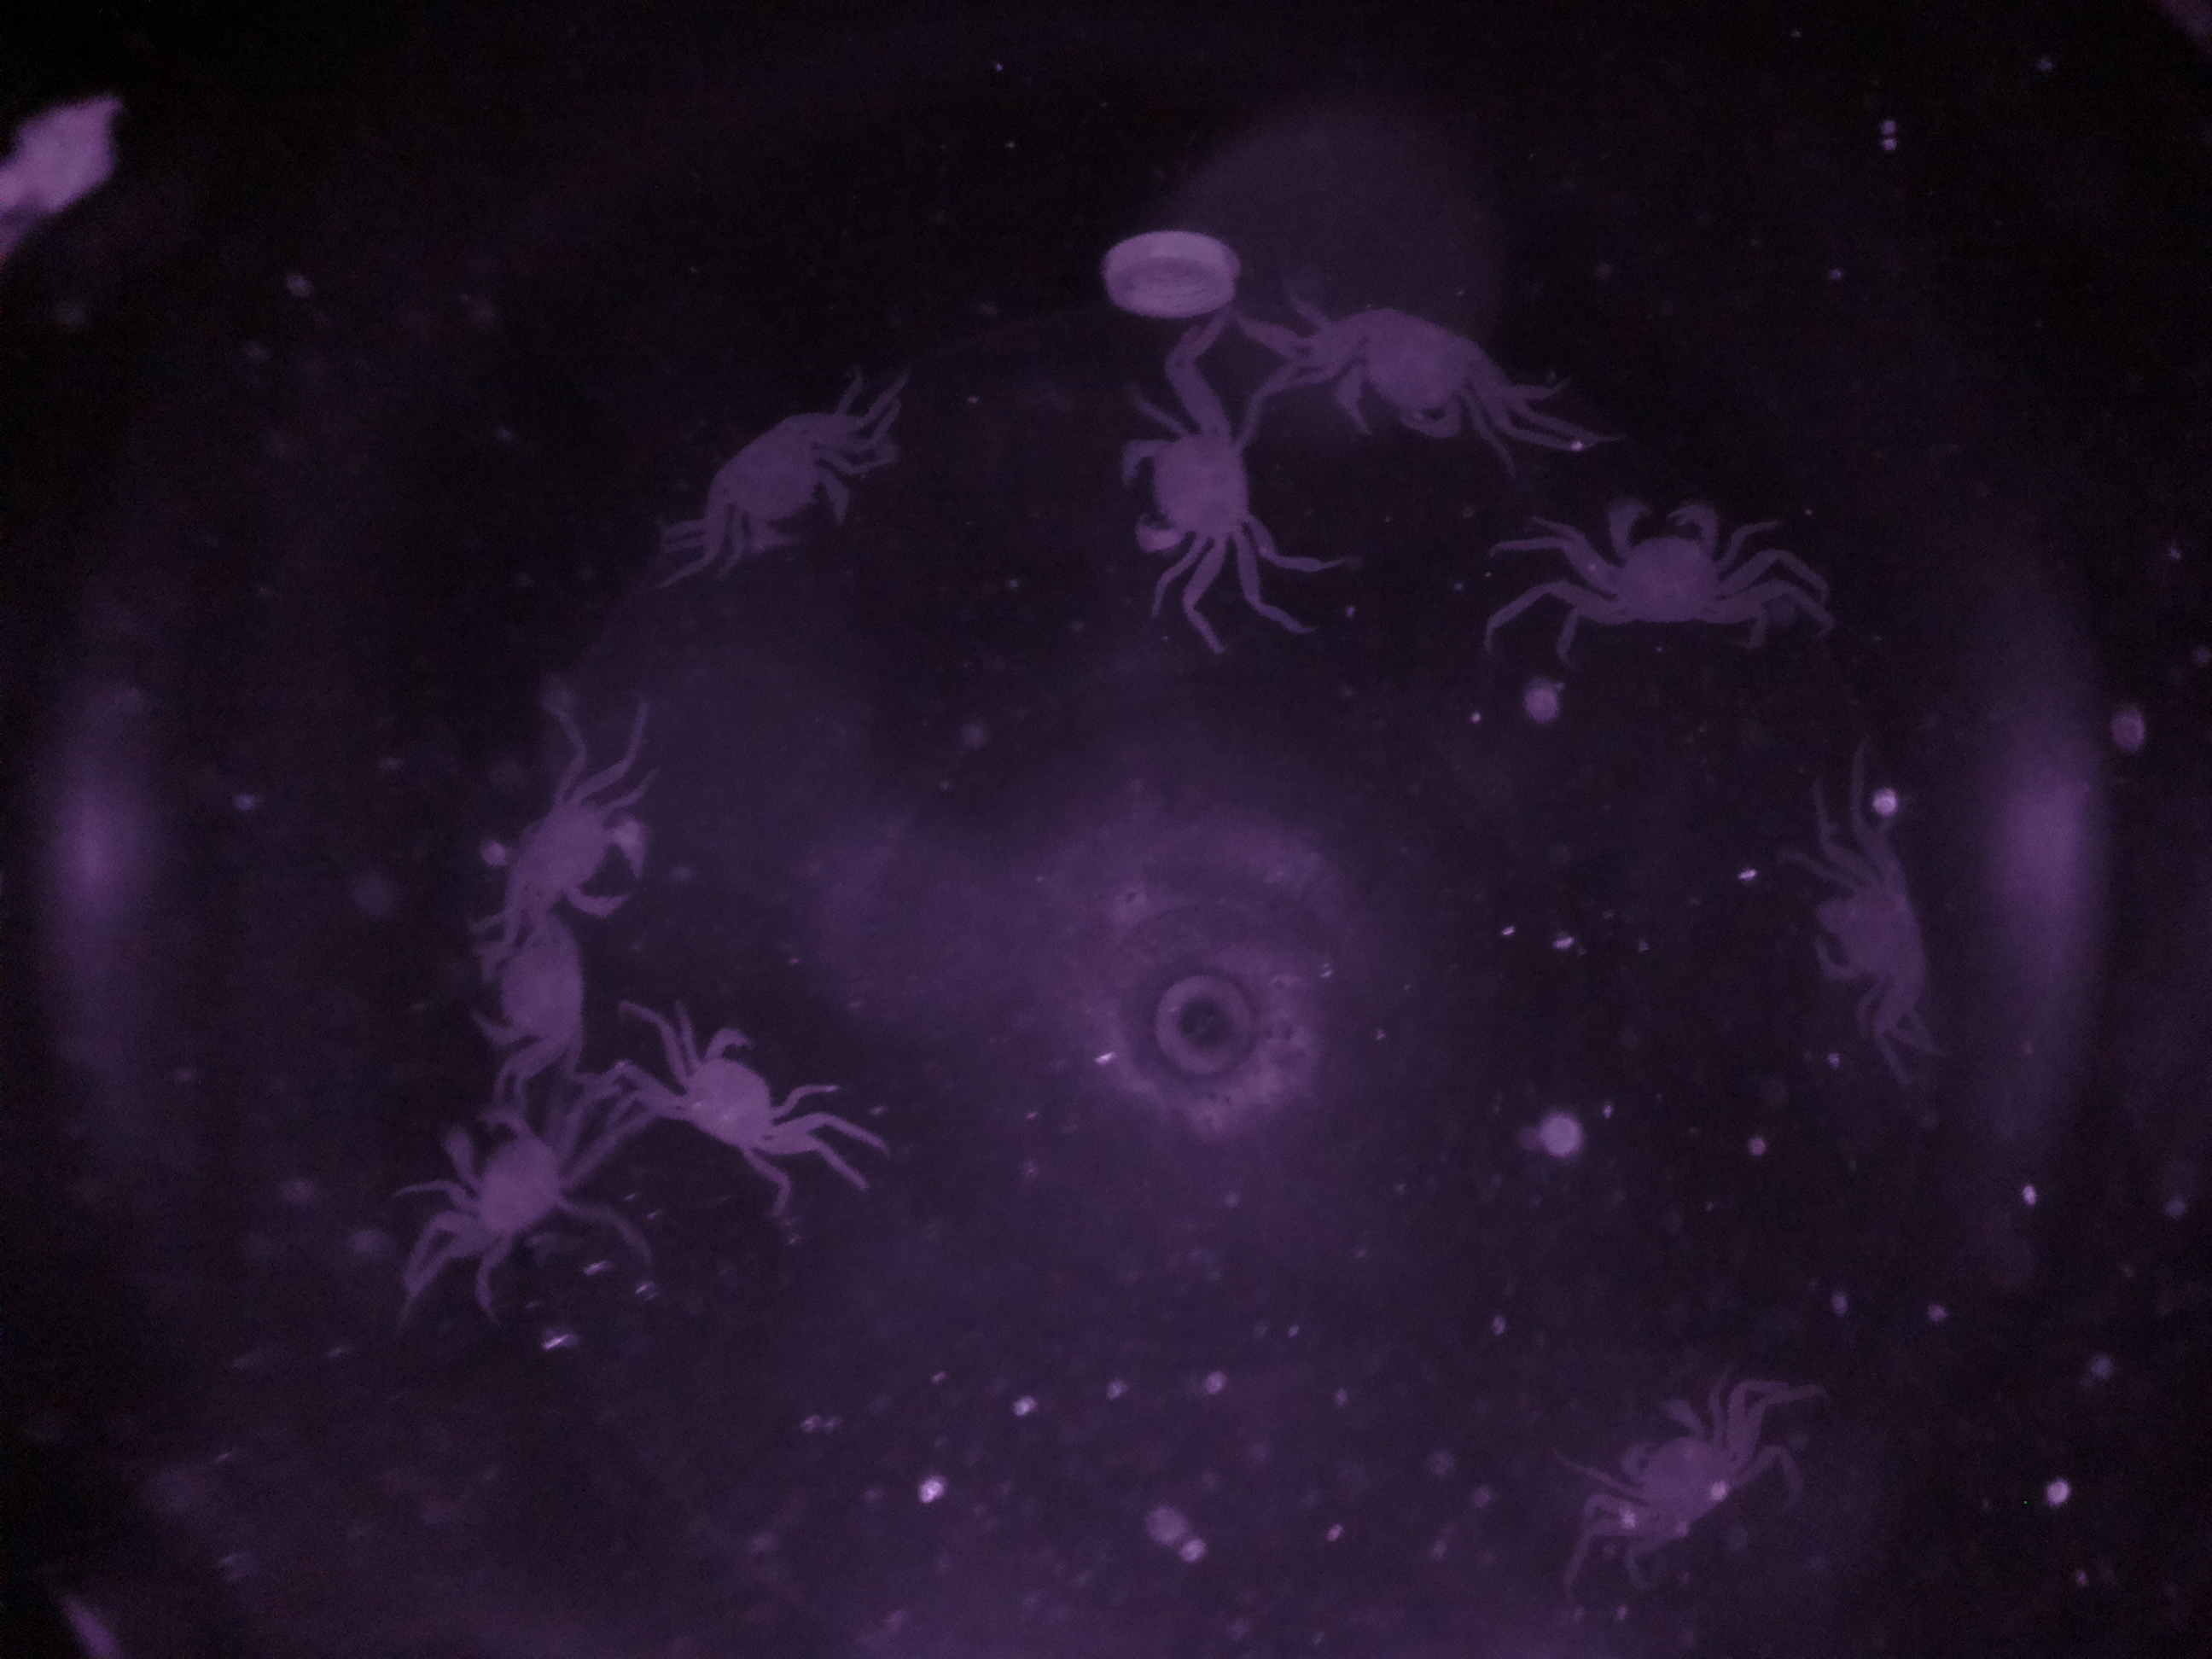Crab: (1287, 282, 1545, 436), (491, 734, 662, 955), (686, 390, 866, 579), (1609, 1371, 1782, 1565), (644, 1004, 841, 1168), (1115, 387, 1271, 587), (1564, 471, 1747, 641)
